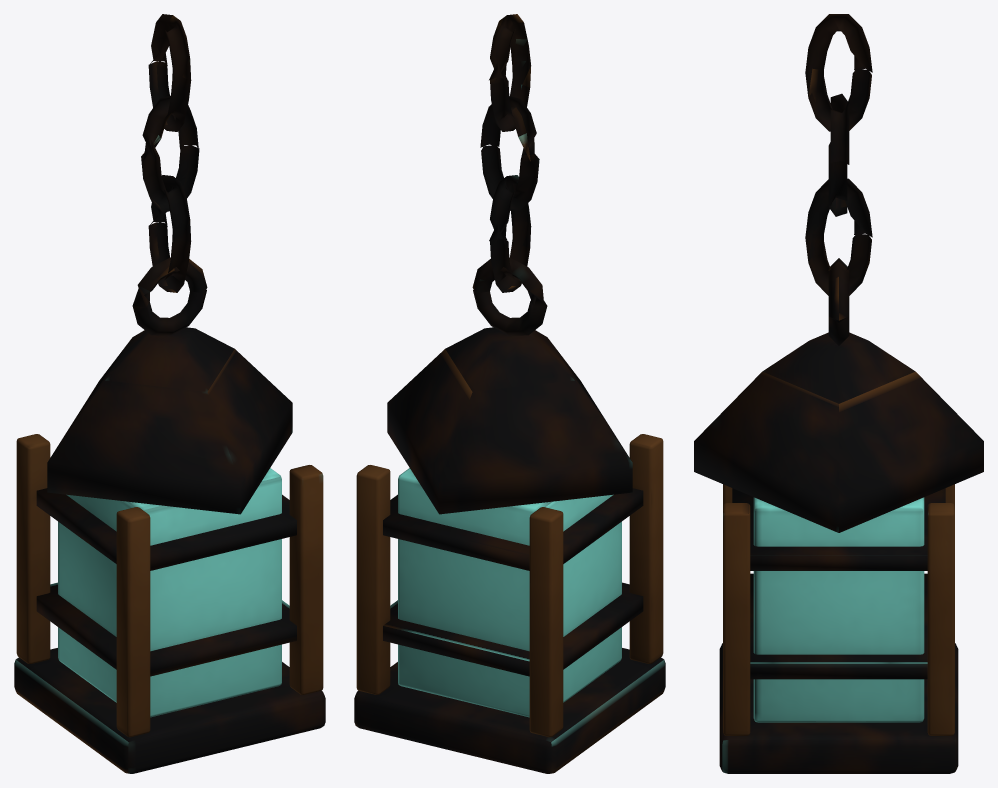
Rendered from mine_lantern.obj.
3 renders of one model, left to right at view 1: azimuth 30°, elevation 25°; view 2: azimuth 150°, elevation 25°; view 3: azimuth 270°, elevation 25°, orthographic. The views are drawn at different scales.
Parts seen in each view (by area): view 1: part0, fire, part2; view 2: part0, fire, part2; view 3: part0, fire, part2.
Boxes of the visible parts, bbox=[...] form: part0: bbox=[14, 14, 325, 773]; fire: bbox=[58, 468, 281, 717]; part2: bbox=[16, 434, 323, 737]; part0: bbox=[354, 14, 665, 773]; fire: bbox=[398, 468, 621, 717]; part2: bbox=[356, 434, 663, 737]; part0: bbox=[694, 14, 983, 773]; fire: bbox=[753, 497, 924, 722]; part2: bbox=[723, 484, 954, 735].
Bounding box in the file's own units: 0.34 × 0.9211 × 0.34.
